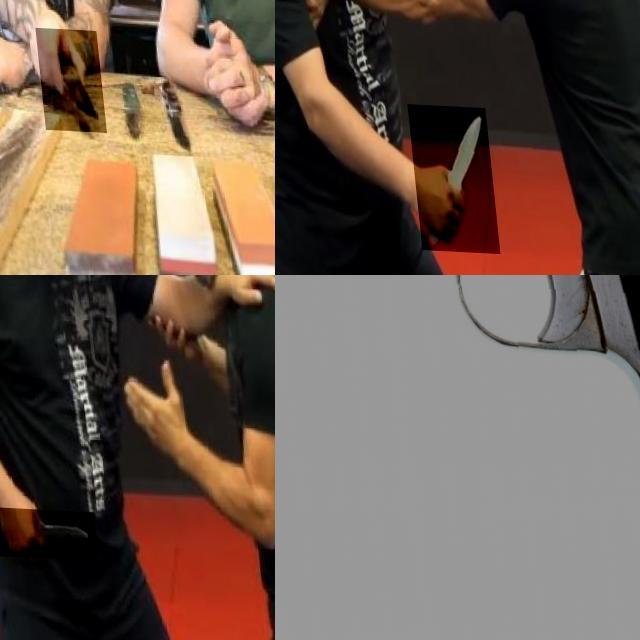-: (398, 102, 488, 251), (27, 25, 96, 130), (0, 505, 87, 558)
gun-knife-thesis - v11 Yolov5 augmented: (275, 275, 640, 640)
